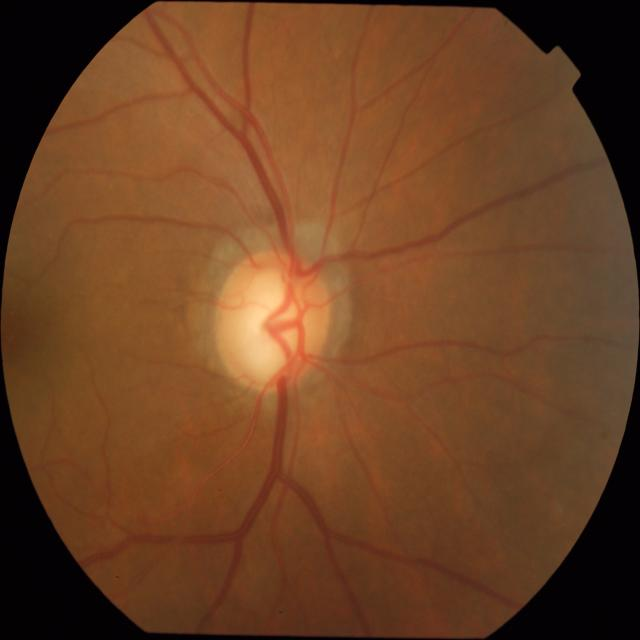OC: (238, 270, 310, 382)
OD: (212, 248, 331, 393)
